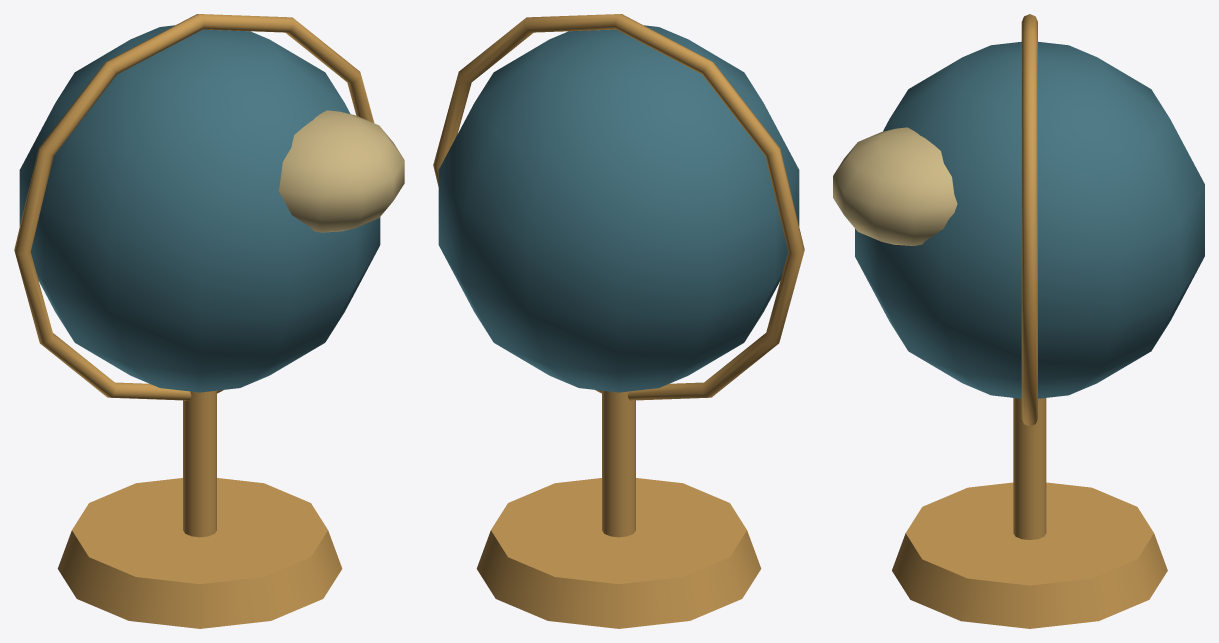
Rendered from globe_small.glb.
3 renders of one model, left to right at view 1: azimuth 30°, elevation 25°; view 2: azimuth 150°, elevation 25°; view 3: azimuth 270°, elevation 25°, orthographic. The views are drawn at different scales.
Visible parts, largest first — view 1: Part2, Part0, Part4, Part3, Part1; view 2: Part2, Part0, Part4, Part1; view 3: Part2, Part0, Part3, Part4, Part1.
Boxes of the visible parts, x1,y1,x2,y2 form: Part2: [19, 25, 380, 392]; Part0: [57, 478, 342, 628]; Part4: [14, 14, 374, 400]; Part3: [278, 110, 404, 232]; Part1: [183, 390, 216, 537]; Part2: [438, 25, 799, 392]; Part0: [476, 478, 761, 628]; Part4: [433, 14, 804, 400]; Part1: [602, 390, 635, 537]; Part2: [855, 41, 1204, 398]; Part0: [892, 482, 1167, 628]; Part3: [833, 127, 957, 245]; Part4: [1021, 14, 1037, 426]; Part1: [1013, 398, 1046, 539].
Size of the model in its own units: 0.15 by 0.215 by 0.1346.
